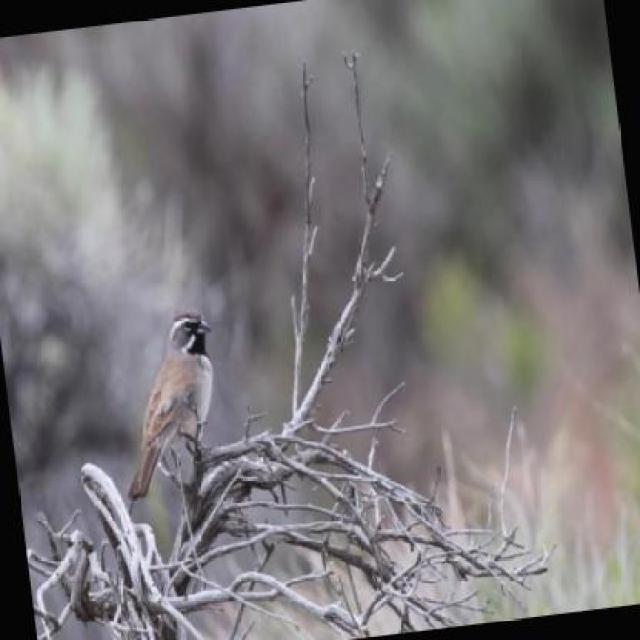Bird: (123, 304, 219, 496)
